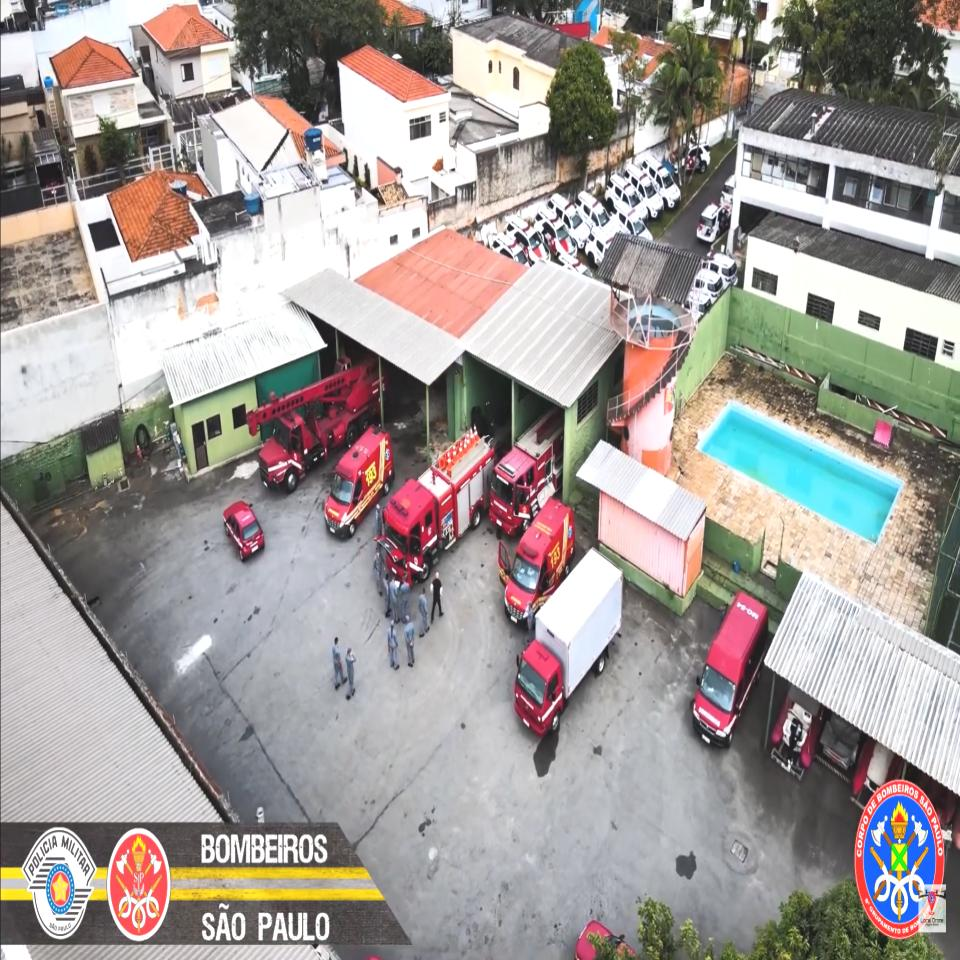bombeiro: (251, 370, 386, 496), (384, 426, 491, 572)
